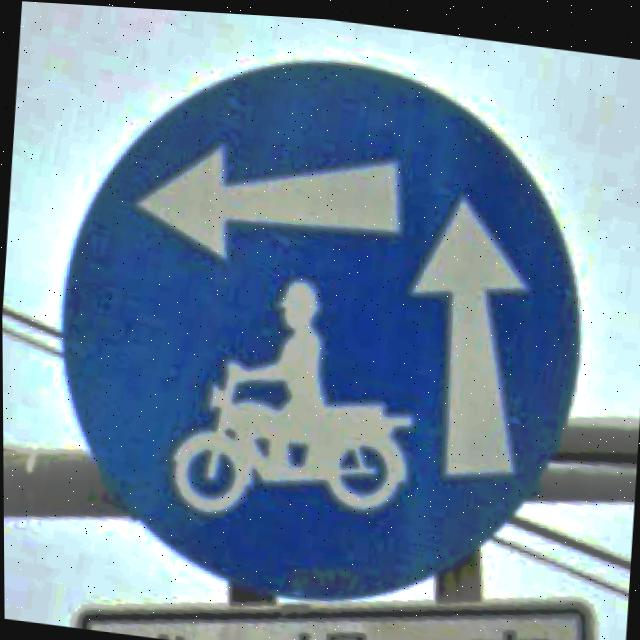twostageturn: (57, 57, 580, 599)
